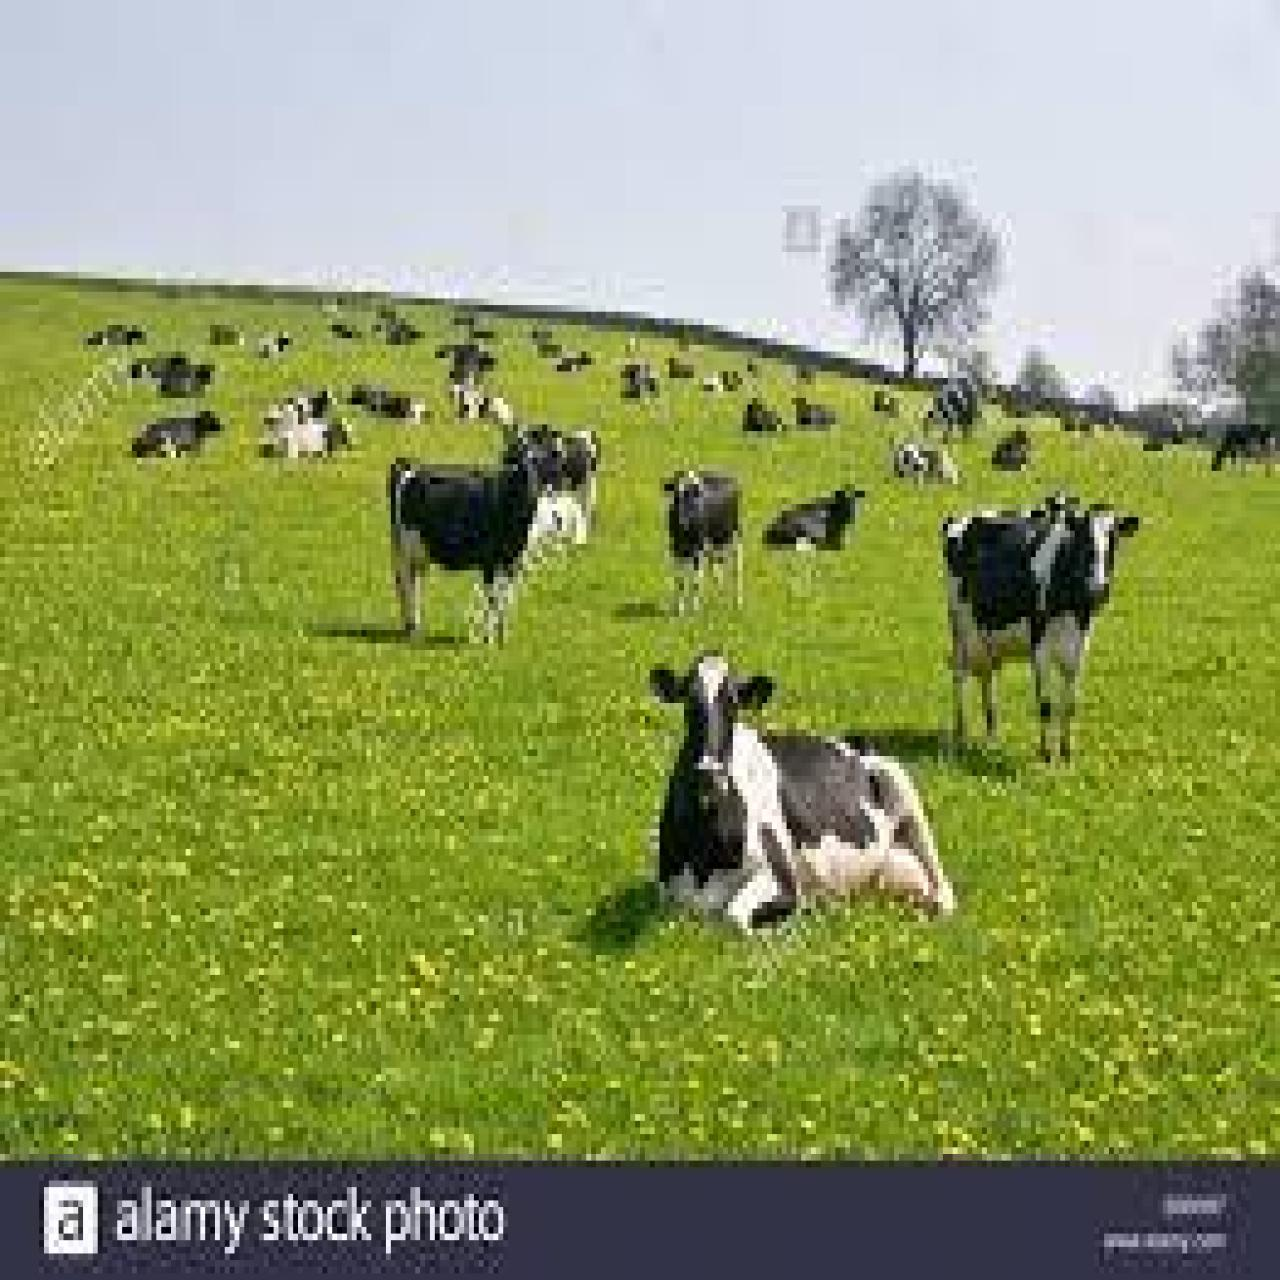cow: (642, 651, 960, 935), (935, 493, 1136, 765), (386, 455, 557, 647), (498, 421, 606, 547), (662, 464, 745, 617), (757, 484, 870, 557), (257, 411, 359, 464), (130, 408, 227, 461), (261, 375, 345, 434), (347, 377, 440, 424), (921, 368, 979, 441), (1210, 417, 1278, 477), (451, 374, 516, 428), (893, 437, 962, 484), (987, 421, 1036, 474), (129, 352, 192, 384), (156, 365, 215, 399), (789, 392, 838, 431), (740, 395, 789, 435), (86, 321, 149, 348), (198, 315, 247, 348), (248, 325, 293, 358)
